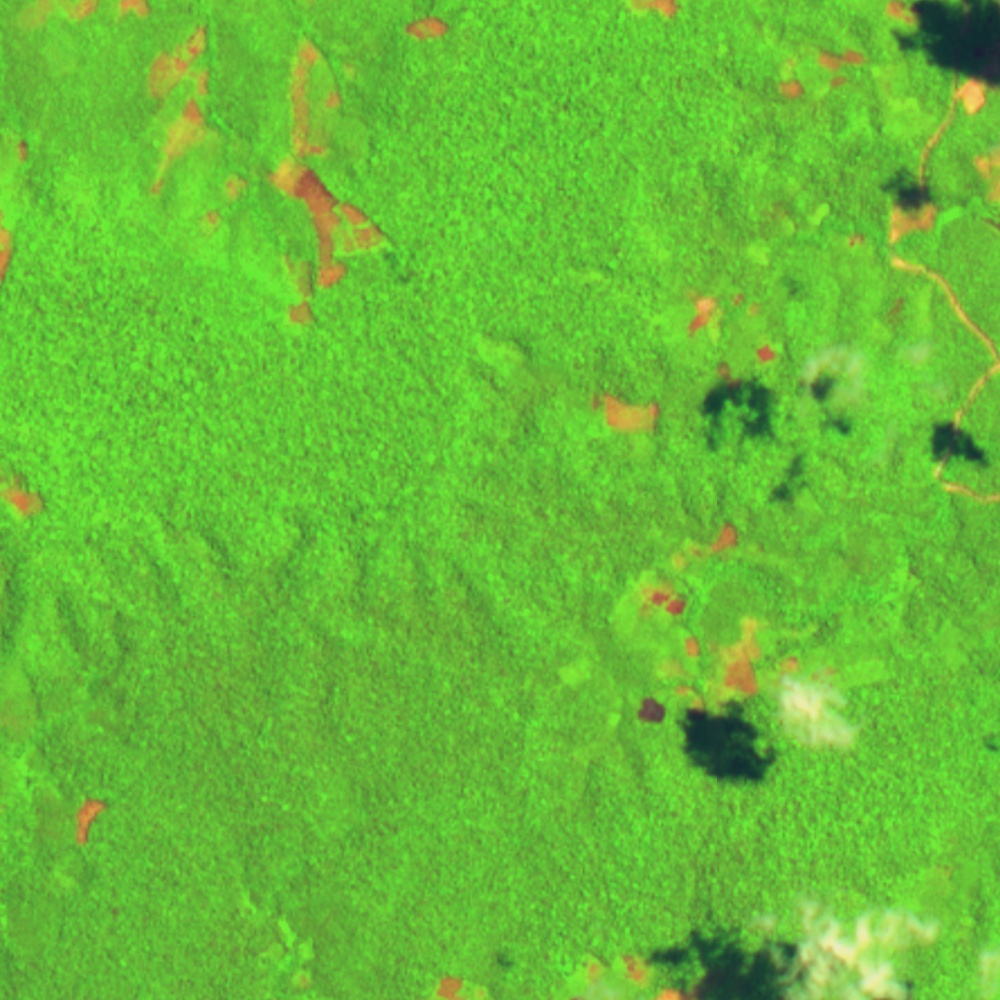legal: (259, 33, 395, 329), (608, 517, 762, 725), (144, 15, 220, 197), (656, 288, 788, 388), (559, 948, 699, 1000), (737, 193, 837, 264), (773, 38, 877, 103), (770, 647, 892, 693), (1, 135, 31, 289), (586, 382, 665, 440), (270, 911, 317, 991), (199, 165, 248, 230), (970, 139, 1000, 237), (1, 466, 50, 521), (13, 1, 152, 19), (71, 793, 110, 851), (430, 964, 489, 1000), (398, 15, 451, 42), (949, 79, 993, 111), (879, 1, 923, 30), (622, 1, 683, 20)
